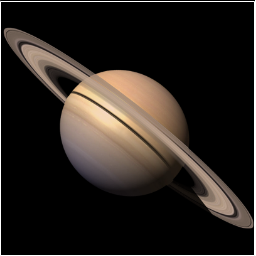planet: (3, 23, 253, 236)
